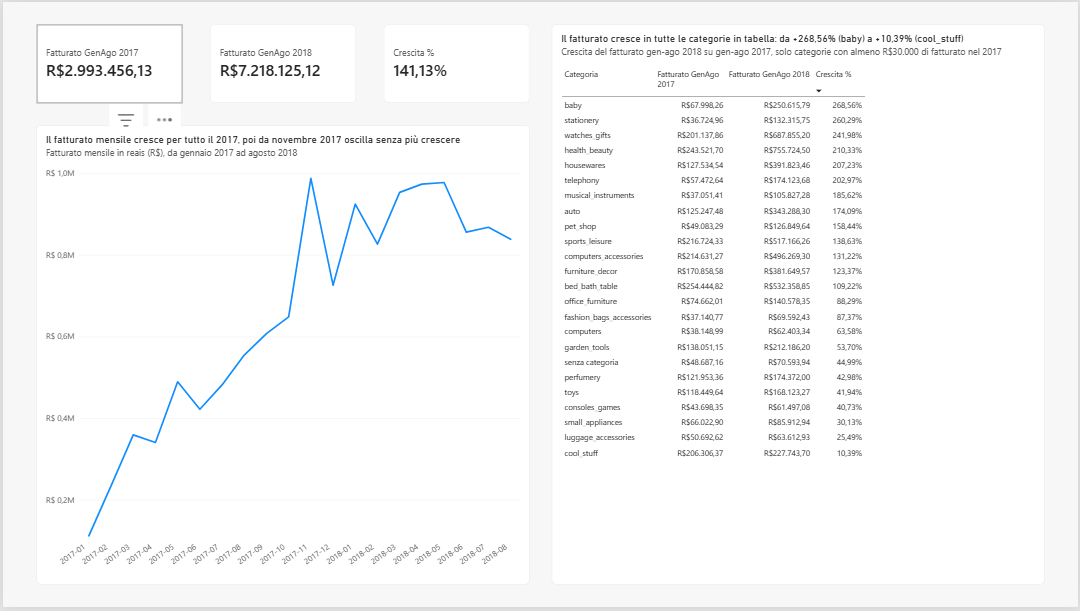

The page's visual inventory and layout, read from the dashboard file:
{"tool":"powerbi","page":{"name":"Andamento","canvas":[1920,1080],"ordinal":1},"visuals":[{"type":"lineChart","title":"Il fatturato mensile cresce per tutto il 2017, poi da novembre 2017 oscilla senza più crescere","fields":{"Category":["Calendario.AnnoMese"],"Y":["clean order_items.Fatturato"]},"box":[60,220,880,820],"z":0},{"type":"cardVisual","fields":{"Data":["clean order_items.Fatturato GenAgo 2017"]},"box":[60,40,260,140],"z":1000},{"type":"cardVisual","fields":{"Data":["clean order_items.Fatturato GenAgo 2018"]},"box":[370,40,260,140],"z":2000},{"type":"cardVisual","fields":{"Data":["clean order_items.Crescita %"]},"box":[680,40,260,140],"z":3000},{"type":"tableEx","title":"Il fatturato cresce in tutte le categorie in tabella: da +268,56% (baby) a +10,39% (cool_stuff)","fields":{"Values":["clean products.product_category","clean order_items.Fatturato GenAgo 2017","clean order_items.Fatturato GenAgo 2018","clean order_items.Crescita %"]},"box":[980,40,880,1000],"z":4000}]}

Visuals, with their boxes in screenshot pixels (x1, y1, x2, y2), scaled from the page's 1920x1080 canvas onto the 1080x611 screenshot:
"Il fatturato mensile cresce per tutto il 2017, poi da novembre 2017 oscilla senza più crescere" lineChart: bbox=[34, 124, 529, 588]
cardVisual - clean order_items.Fatturato GenAgo 2017: bbox=[34, 23, 180, 102]
cardVisual - clean order_items.Fatturato GenAgo 2018: bbox=[208, 23, 354, 102]
cardVisual - clean order_items.Crescita %: bbox=[382, 23, 529, 102]
"Il fatturato cresce in tutte le categorie in tabella: da +268,56% (baby) a +10,39% (cool_stuff)" tableEx: bbox=[551, 23, 1046, 588]
